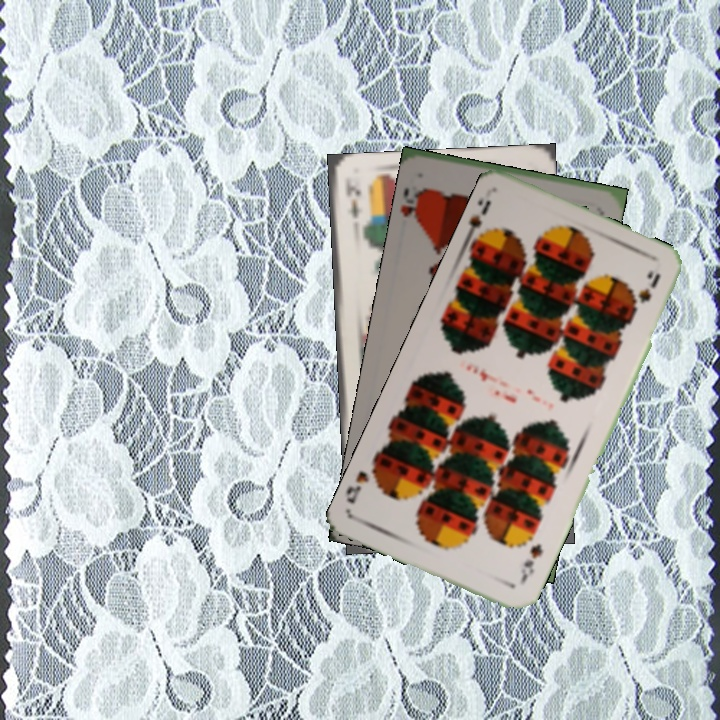EK: (341, 178, 364, 221)
HO: (398, 184, 430, 229)
S9: (459, 195, 494, 247), (515, 539, 545, 588)
